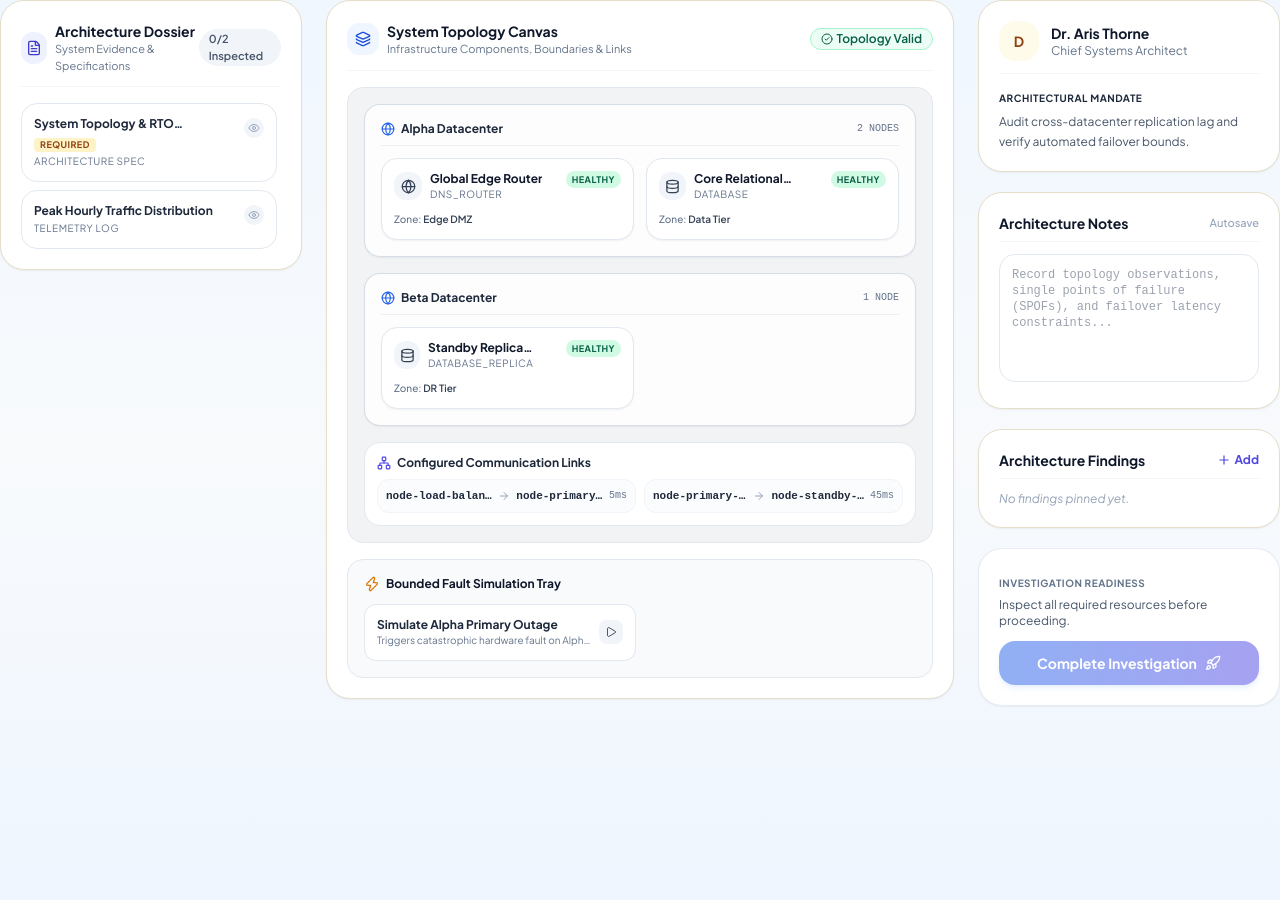
Test: SystemArchitectWorkspace Component › running fault simulation updates component state to failed and displays telemetry alert
Trigger simulation
Click the heading "Simulate Alpha Primary Outage": (467,624) top-left (377, 616), bottom-right (558, 632)
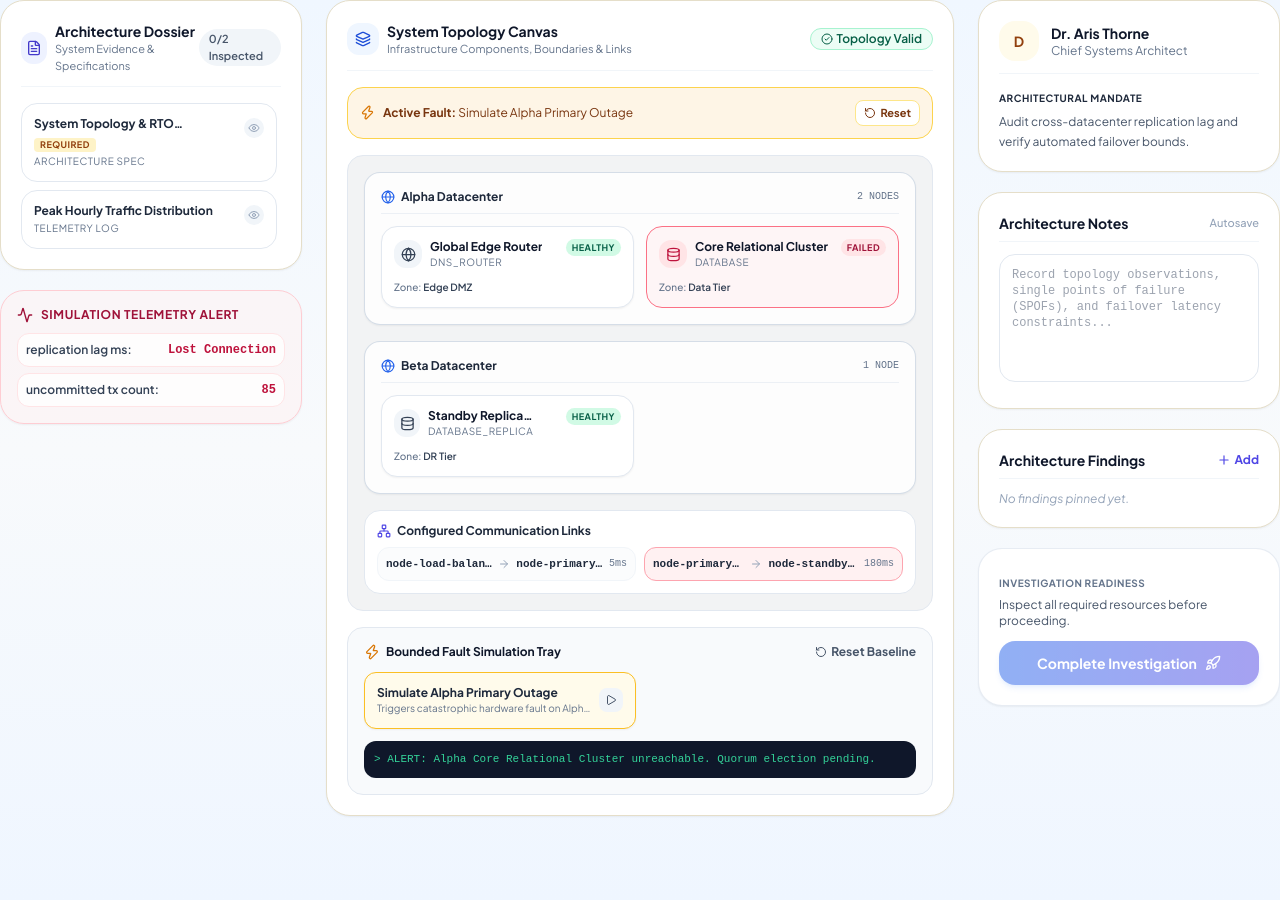
Check: the text "Active Fault:" is shown, box top-left (383, 104), bottom-right (458, 120)
Check: the text "ALERT: Alpha Core Relational Cluster unreachable" is shown, box top-left (387, 752), bottom-right (876, 764)
Check: the heading "Simulation Telemetry Alert" is shown, box top-left (41, 306), bottom-right (239, 322)
Reset simulation
Click the button "Reset": (888,112) top-left (855, 100), bottom-right (920, 126)
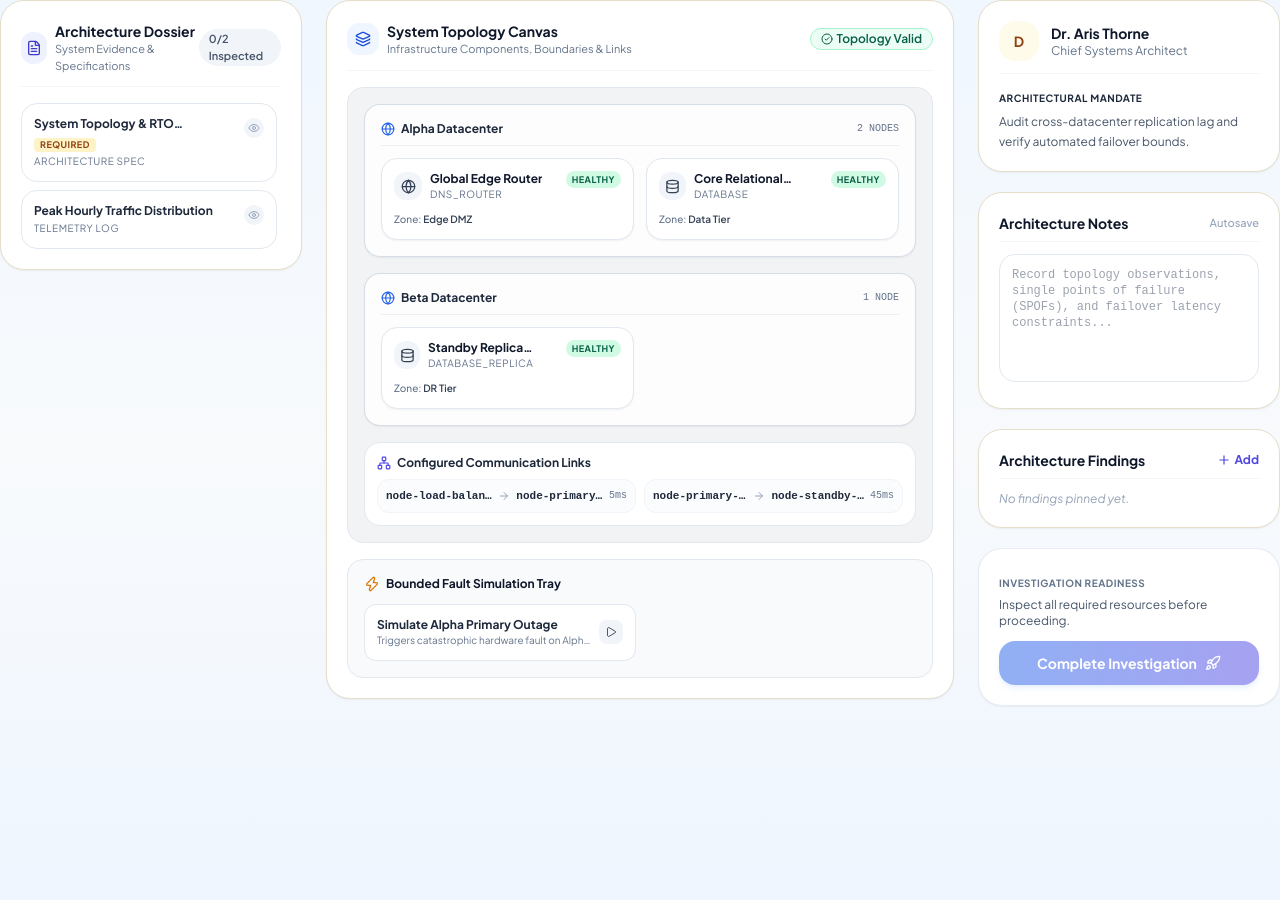
Check: the heading "Simulation Telemetry Alert" is gone
